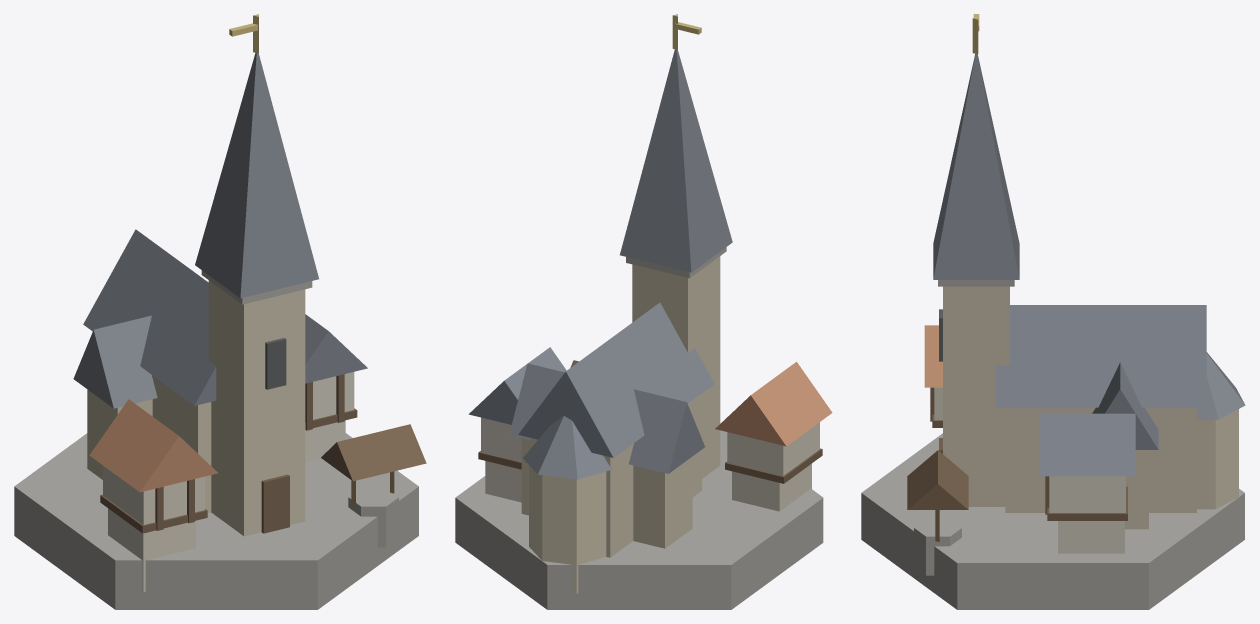
File: center-medieval.glb
3 views of the same model, side by side, from view 1: azimuth 30°, elevation 25°; view 2: azimuth 150°, elevation 25°; view 3: azimuth 270°, elevation 25° (orthographic). The views are drawn at different scales.
Visible parts, largest first — view 1: LOD0; view 2: LOD0; view 3: LOD0.
Boxes of the visible parts, left/top/right/bottom form: LOD0: left=14, top=14, right=426, bottom=609; LOD0: left=455, top=14, right=832, bottom=609; LOD0: left=861, top=14, right=1245, bottom=609.
Size of what is drawn, in the model's own units: 0.3464 by 0.6 by 0.4007.
